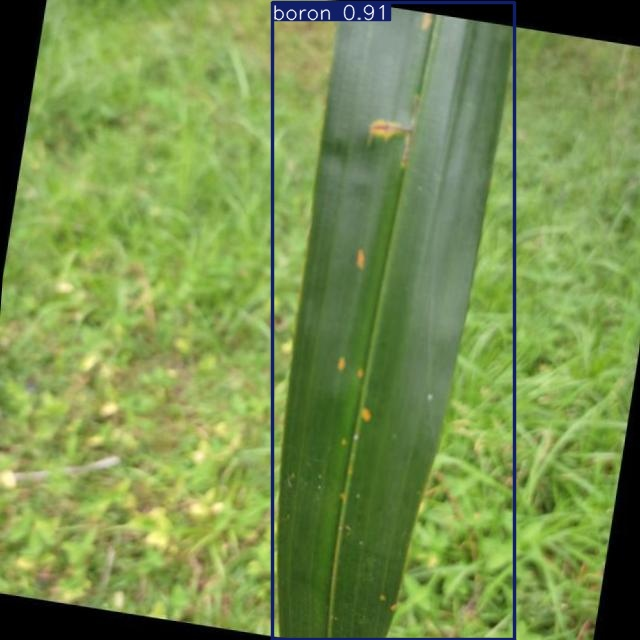nitrogen: (272, 2, 514, 640)
